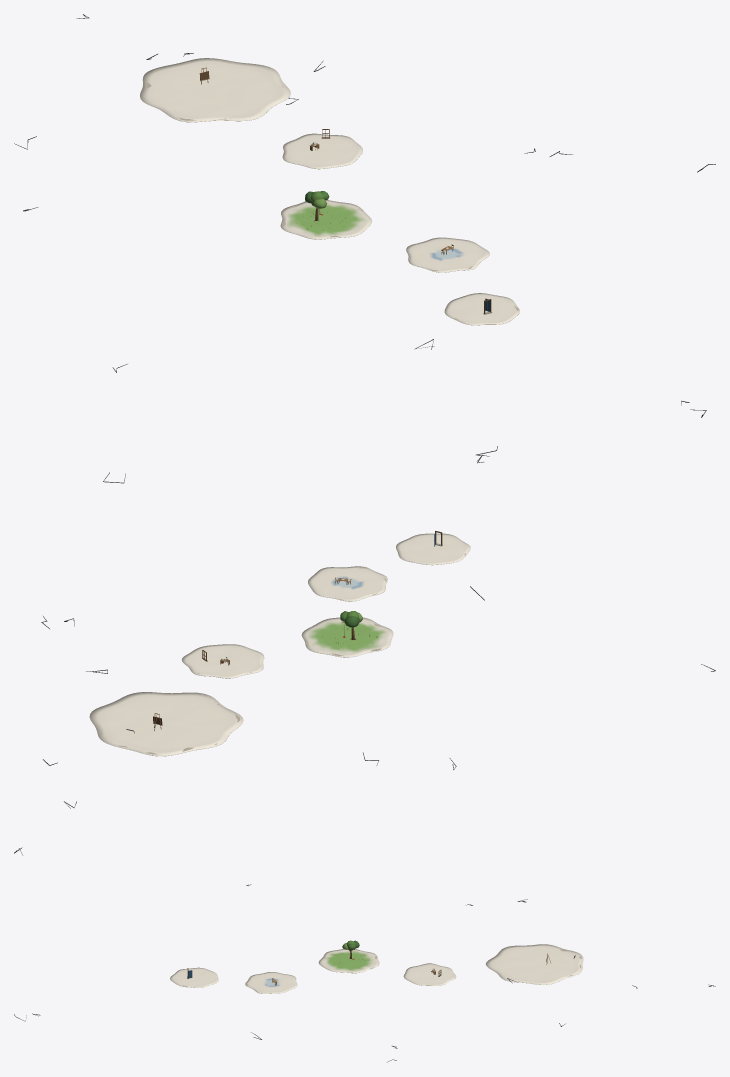
The model's file is unfinished_page.glb.
The picture shows the model from 3 angles, top to bottom: view 1: azimuth 30°, elevation 25°; view 2: azimuth 150°, elevation 25°; view 3: azimuth 270°, elevation 25°; orthographic projection. The views are drawn at different scales.
Parts seen in each view (by area): view 1: frag_page, frag_garden, frag_studio, frag_kitchen, frag_door; view 2: frag_page, frag_garden, frag_studio, frag_kitchen, frag_door; view 3: frag_page, frag_garden, frag_studio, frag_kitchen, frag_door.
Boxes of the visible parts, x1,y1,x2,y2 form: frag_page: (140, 58, 290, 122); frag_garden: (280, 200, 371, 239); frag_studio: (282, 133, 362, 169); frag_kitchen: (406, 237, 489, 272); frag_door: (444, 293, 519, 325); frag_page: (89, 692, 243, 756); frag_garden: (301, 617, 393, 657); frag_studio: (182, 644, 264, 678); frag_kitchen: (308, 566, 387, 601); frag_door: (396, 533, 470, 565); frag_page: (486, 944, 583, 984); frag_garden: (318, 949, 379, 973); frag_studio: (403, 963, 456, 985); frag_kitchen: (245, 972, 297, 993); frag_door: (170, 967, 218, 987).
Size of the model in its own units: 121 by 14.37 by 192.
